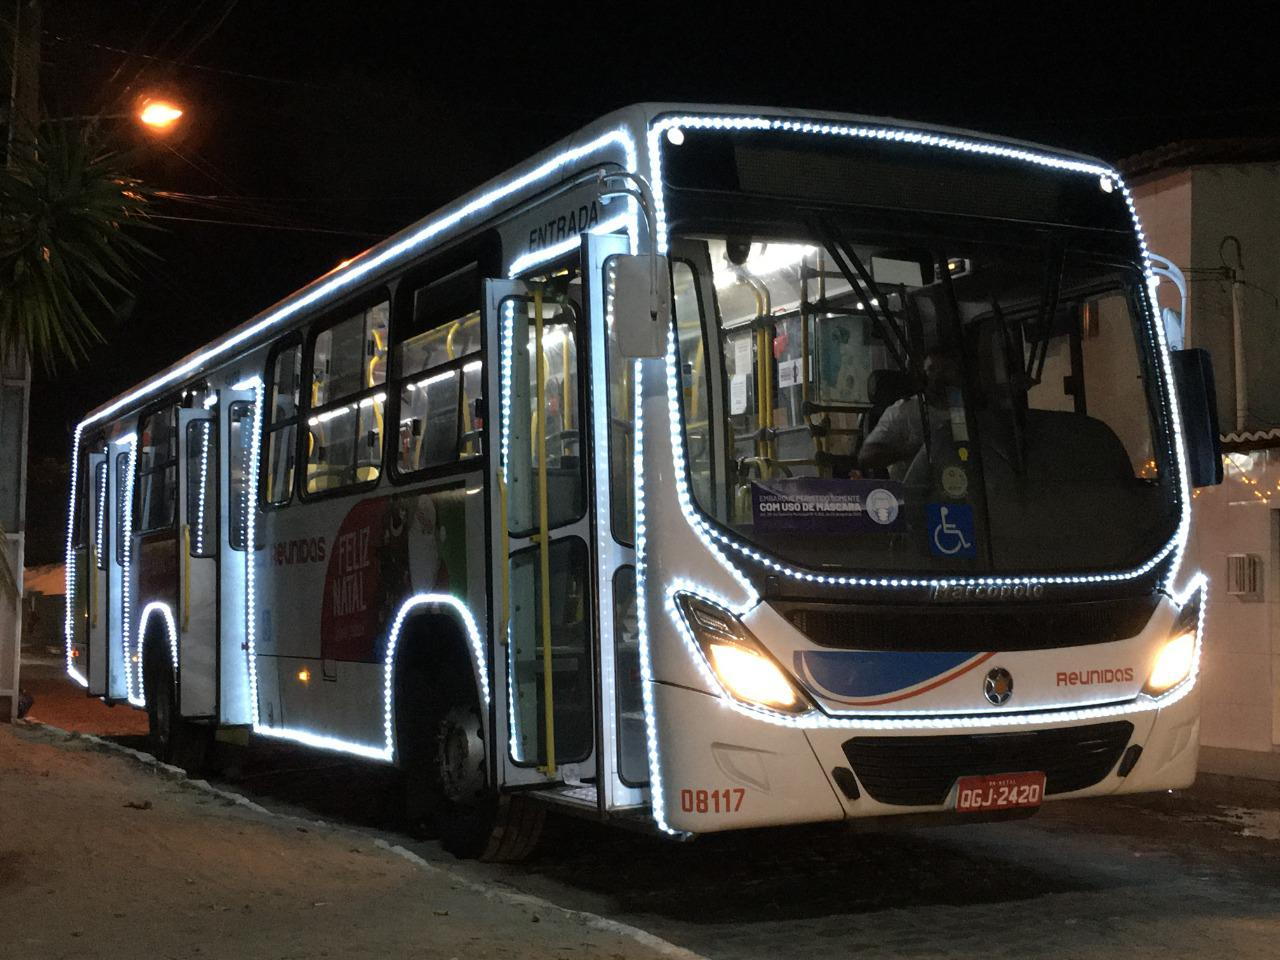bus: (61, 91, 1219, 883)
car_plate: (955, 771, 1045, 813)
